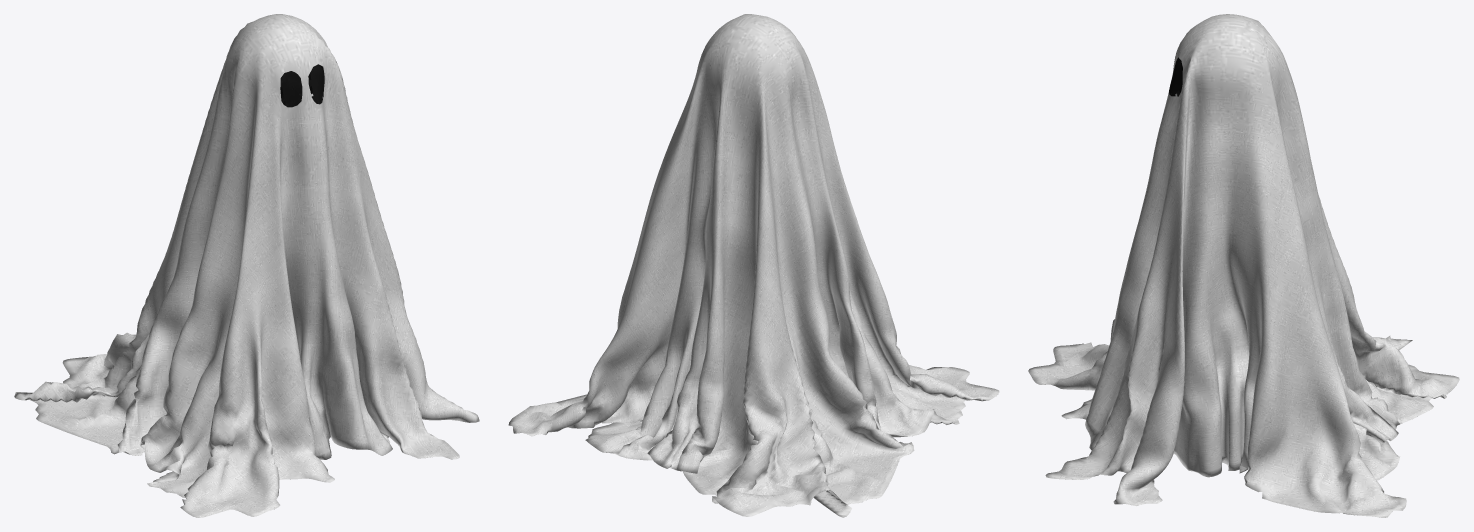
The model's file is ghost_halloween_decoration_f6b7d52b.glb.
The picture shows the model from 3 angles, left to right: view 1: azimuth 30°, elevation 25°; view 2: azimuth 150°, elevation 25°; view 3: azimuth 270°, elevation 25°; orthographic projection. The views are drawn at different scales.
Parts seen in each view (by area): view 1: Plane; view 2: Plane; view 3: Plane.
Part boxes in pixels (x1=…): Plane: x1=14, y1=14, x2=479, y2=517; Plane: x1=508, y1=14, x2=999, y2=517; Plane: x1=1028, y1=14, x2=1459, y2=517.
Bounding box in the file's own units: 1.21 × 1.28 × 1.22.
Materials: 2 (2 with a texture image).
